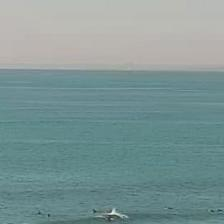surfer: (215, 208, 223, 215), (106, 217, 113, 222), (209, 209, 217, 213), (92, 209, 98, 214), (168, 206, 174, 210), (47, 213, 51, 217), (38, 211, 40, 214)
